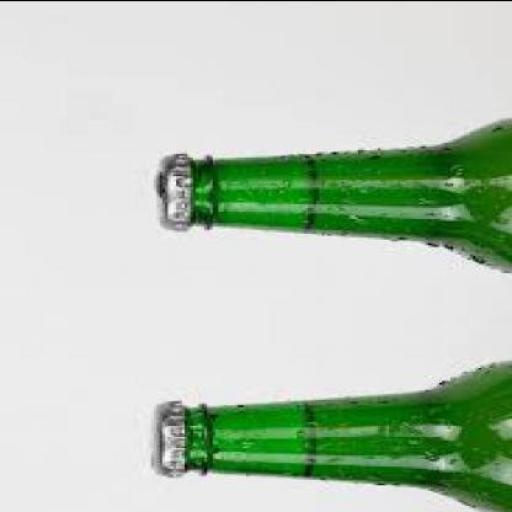glass: (181, 358, 509, 510), (190, 115, 509, 270)
metal: (152, 151, 194, 227), (148, 396, 179, 472)
